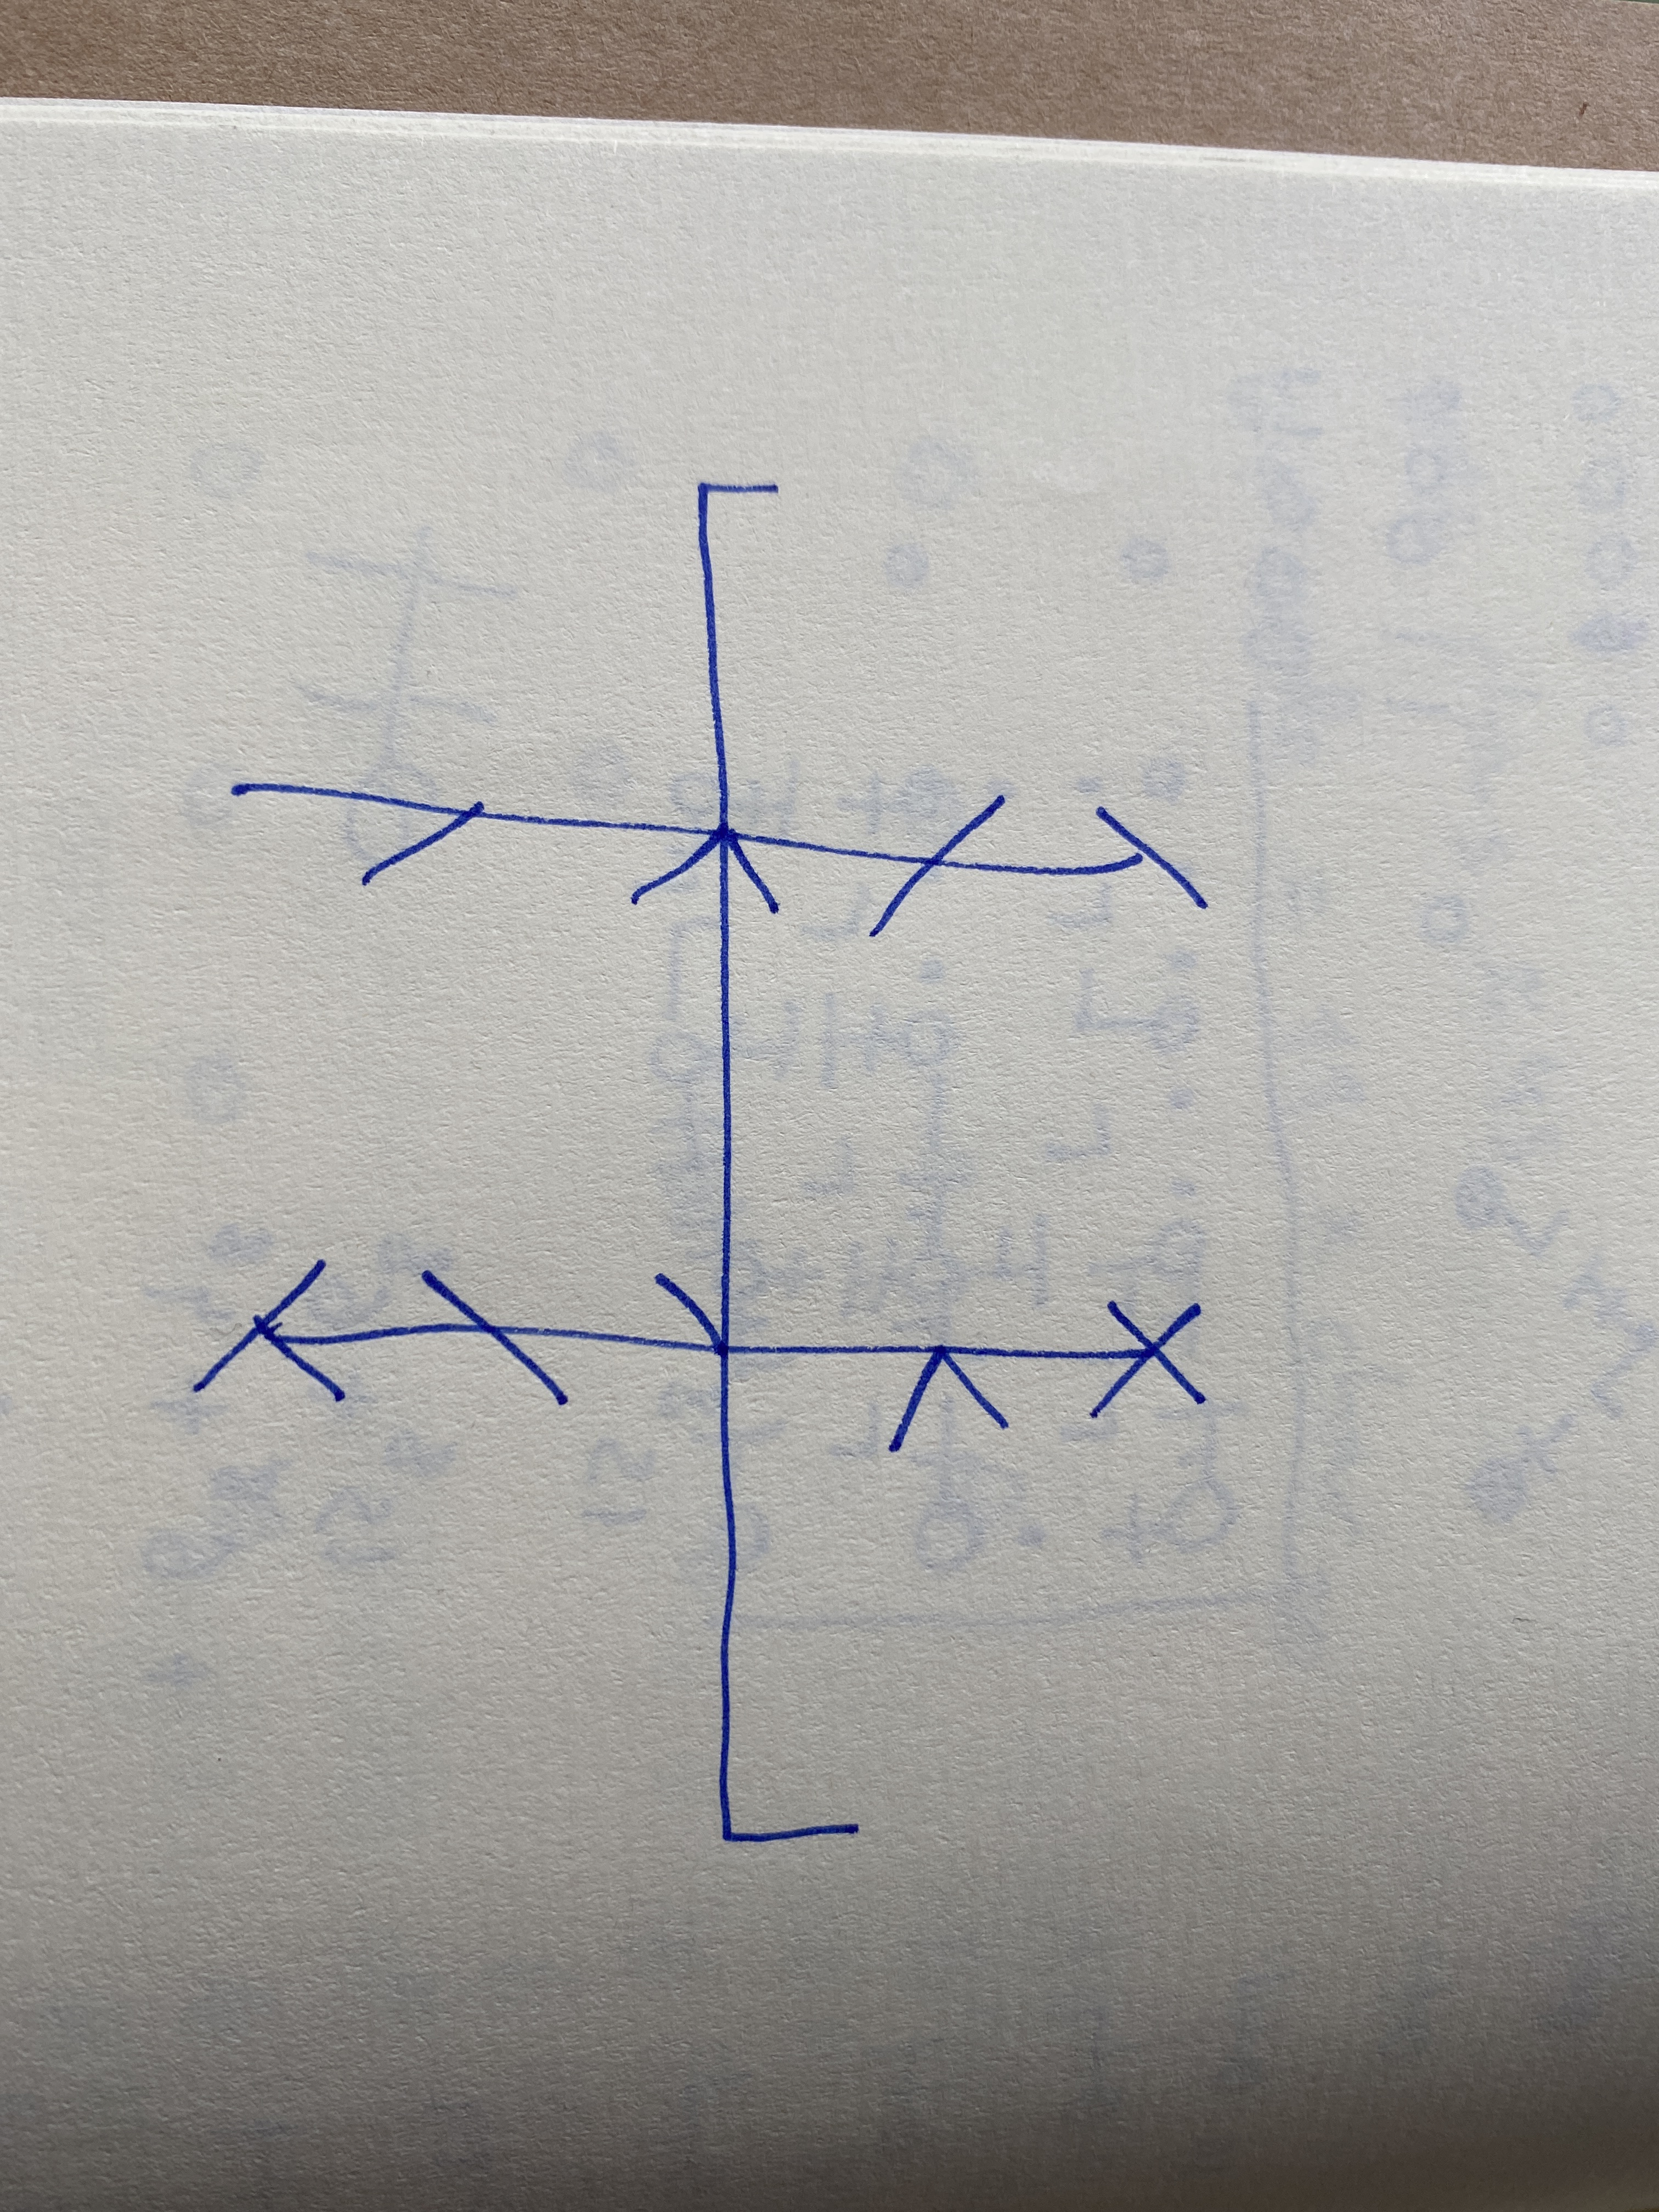Bar: (192, 1261, 1211, 1453), (228, 782, 1209, 941)
Barcode: (186, 481, 1209, 1844)
End: (718, 1360, 861, 1843)
Start: (695, 477, 782, 826)
